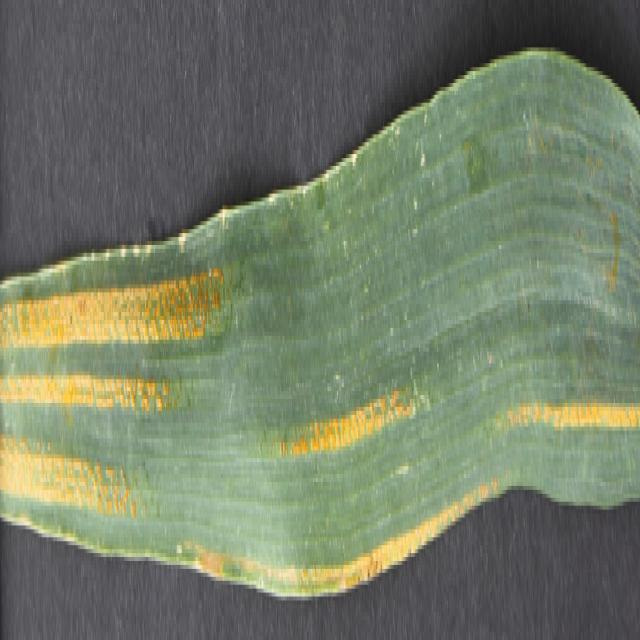leaf rust: (1, 229, 230, 557), (252, 356, 478, 534), (490, 352, 640, 482)
